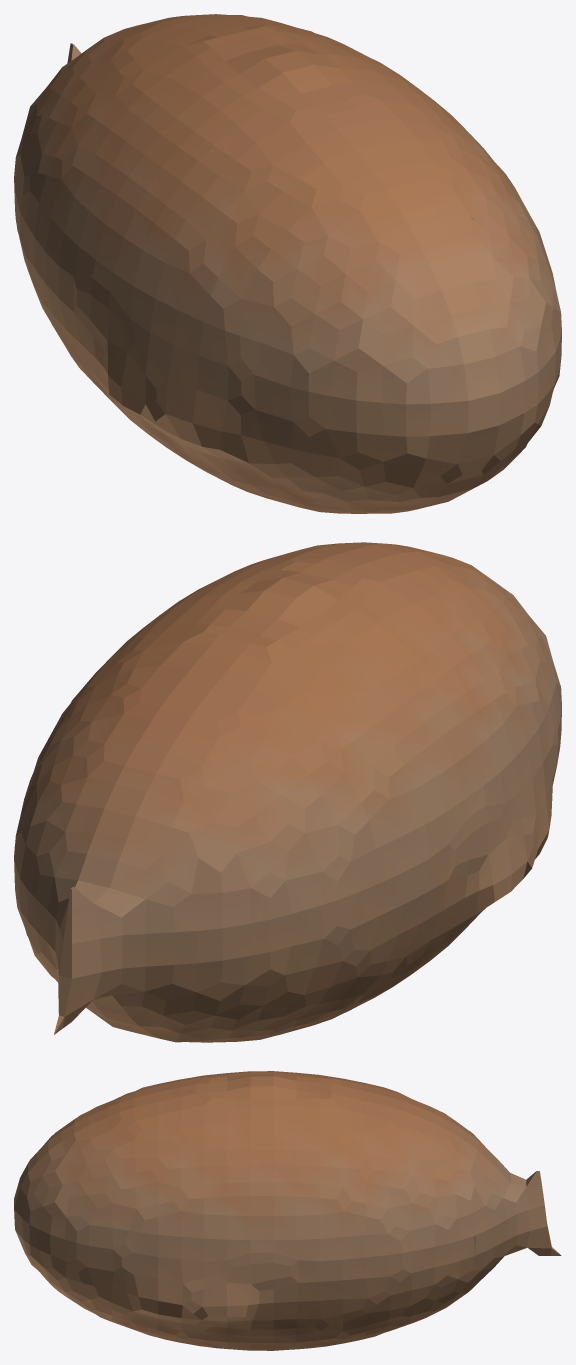
The model's file is mermaidWarrior.glb.
The picture shows the model from 3 angles, top to bottom: view 1: azimuth 30°, elevation 25°; view 2: azimuth 150°, elevation 25°; view 3: azimuth 270°, elevation 25°; orthographic projection. The views are drawn at different scales.
Parts seen in each view (by area): view 1: geometry_0; view 2: geometry_0; view 3: geometry_0.
Boxes of the visible parts, x1,y1,x2,y2 form: geometry_0: (14, 14, 561, 513); geometry_0: (14, 542, 561, 1042); geometry_0: (14, 1071, 561, 1350).
Bounding box in the file's own units: 0.8522 × 0.8387 × 1.63.
Materials: 1 (1 with a texture image).
